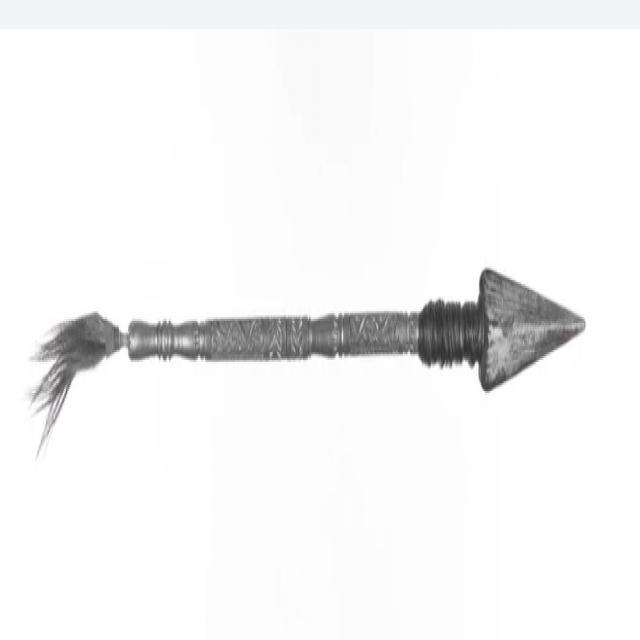spear: (29, 240, 592, 480)
